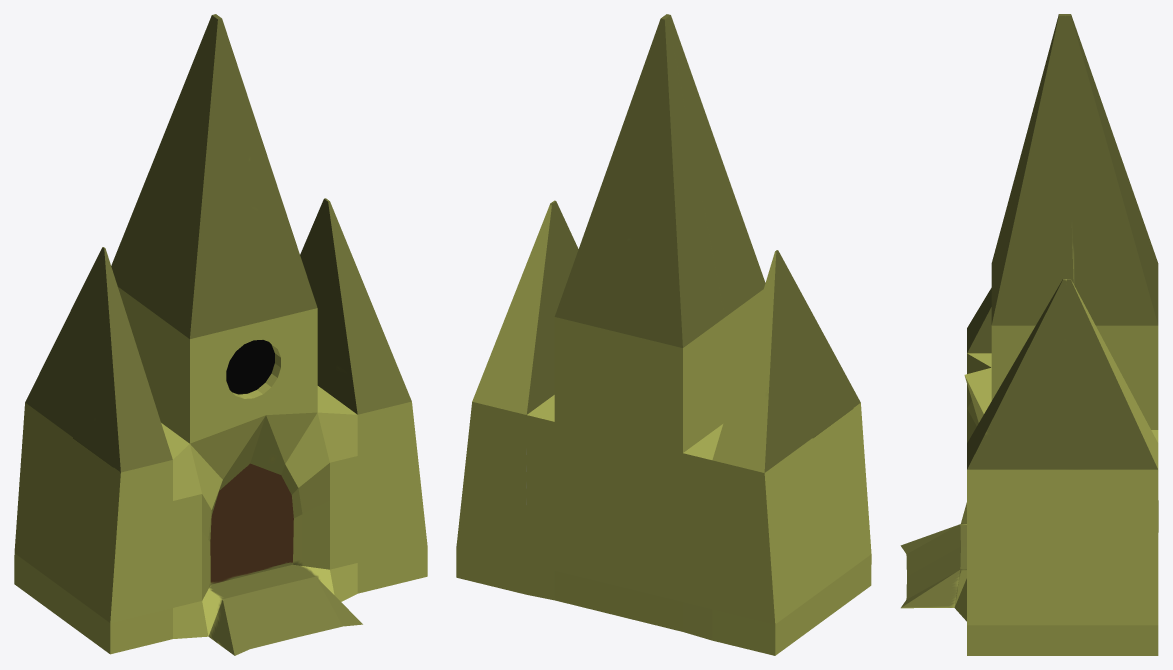
File: Catedral de San Damian.1.glb
3 views of the same model, side by side, from view 1: azimuth 30°, elevation 25°; view 2: azimuth 150°, elevation 25°; view 3: azimuth 270°, elevation 25° (orthographic).
Parts seen in each view (by area): view 1: Cubo.001; view 2: Cubo.001; view 3: Cubo.001.
Boxes of the visible parts, <box> form: Cubo.001: <box>14,14,427,655</box>; Cubo.001: <box>456,14,871,655</box>; Cubo.001: <box>900,14,1158,655</box>.
Bounding box in the file's own units: 18.7 × 31.75 × 13.19.
1 material, 1 textured.
